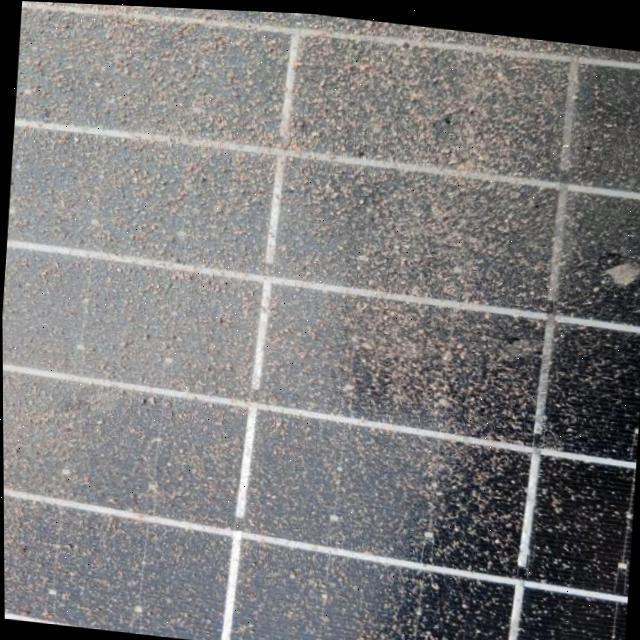Surface Contaminant: (32, 15, 640, 640)
